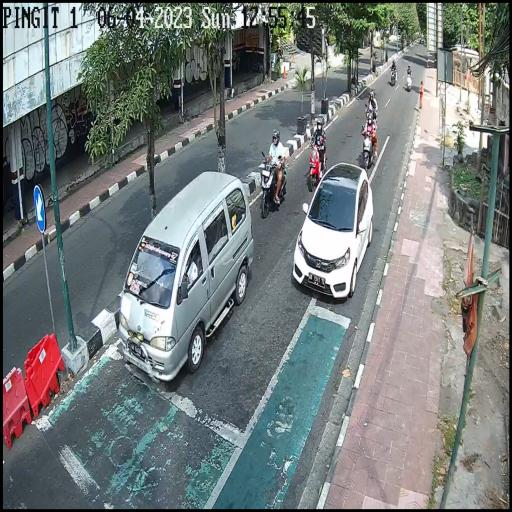mobil: (118, 166, 252, 378), (295, 159, 373, 300)
motor: (259, 151, 287, 215), (308, 139, 327, 190), (360, 128, 376, 168), (390, 66, 398, 87), (406, 73, 413, 92)
